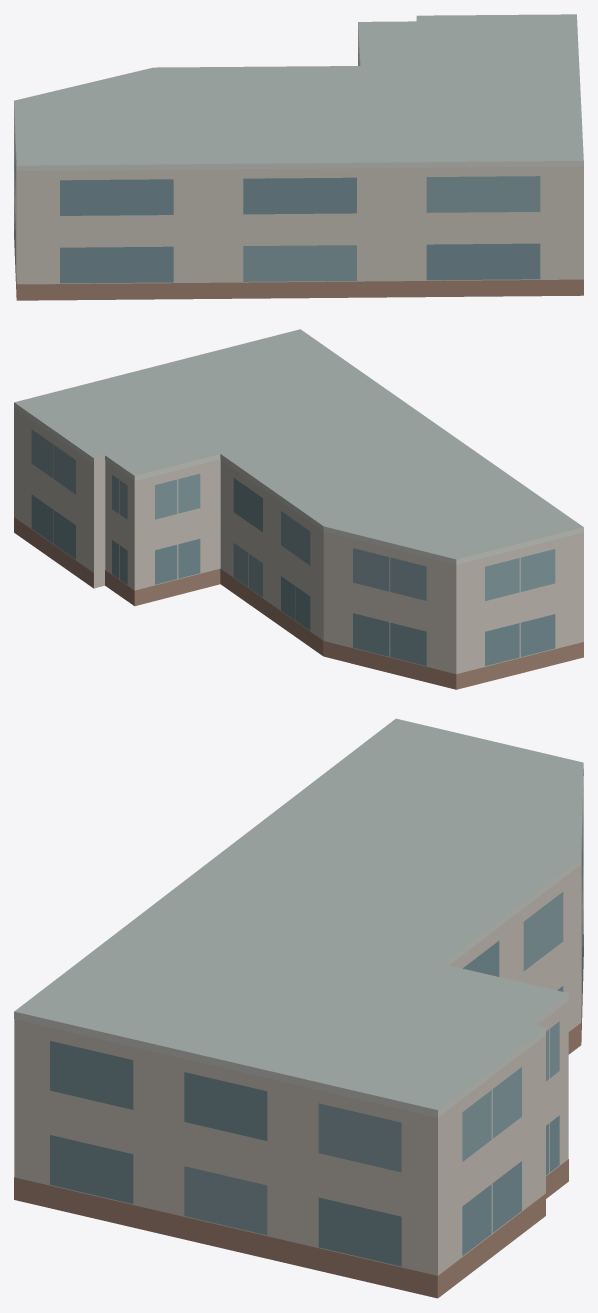
File: survey-upis-32797604.glb
3 renders of one model, top to bottom at view 1: azimuth 30°, elevation 25°; view 2: azimuth 150°, elevation 25°; view 3: azimuth 270°, elevation 25°, orthographic. The views are drawn at different scales.
Visible parts, largest first — view 1: survey-upis-32797604.tmp; view 2: survey-upis-32797604.tmp; view 3: survey-upis-32797604.tmp.
Boxes of the visible parts, x1,y1,x2,y2 form: survey-upis-32797604.tmp: [14, 14, 583, 300]; survey-upis-32797604.tmp: [14, 329, 583, 689]; survey-upis-32797604.tmp: [14, 718, 583, 1298].
Bounding box in the file's own units: 27.23 × 6.1 × 16.74.
